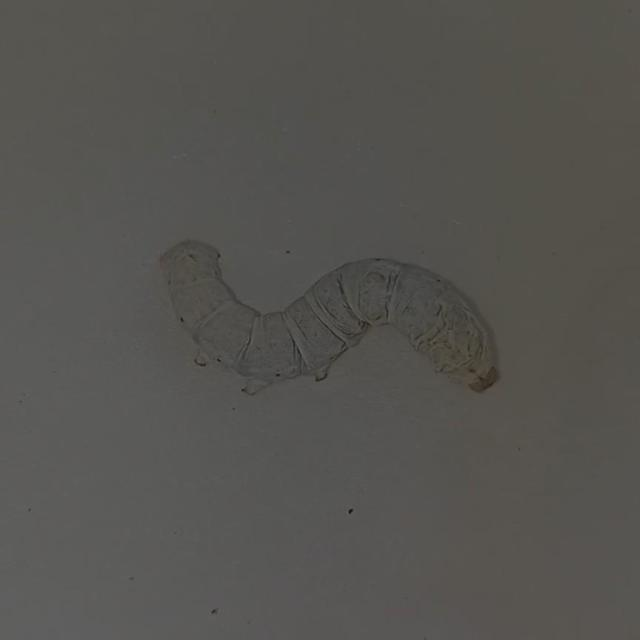Healthy: (148, 226, 508, 412)
